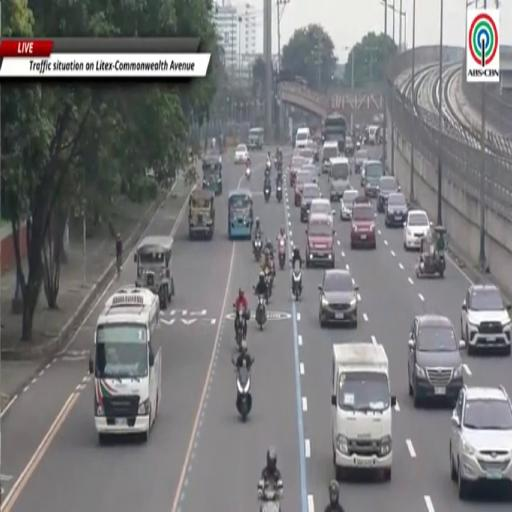bus: (322, 115, 346, 153)
car: (450, 387, 511, 500), (408, 314, 465, 407), (461, 284, 511, 355), (319, 269, 358, 327), (306, 214, 335, 267), (403, 209, 432, 251), (351, 202, 376, 249), (377, 176, 401, 213), (330, 157, 350, 201), (362, 160, 385, 198), (385, 192, 408, 227), (300, 184, 321, 222), (294, 169, 313, 206), (340, 188, 359, 220), (310, 197, 334, 222), (289, 155, 307, 186), (322, 141, 338, 173), (355, 150, 369, 173), (301, 164, 318, 182), (234, 144, 248, 164), (298, 148, 315, 162), (361, 159, 369, 187), (345, 137, 354, 156)
jeepney: (134, 236, 175, 309), (189, 189, 214, 239), (228, 189, 253, 239), (203, 155, 222, 195), (248, 127, 264, 150)
motorcycle: (236, 366, 252, 421), (259, 482, 282, 511), (235, 310, 246, 348), (255, 296, 267, 330), (292, 268, 302, 300), (265, 269, 273, 303), (278, 238, 285, 269), (254, 237, 262, 262), (276, 184, 282, 202), (264, 187, 270, 202), (276, 159, 282, 171), (246, 167, 251, 180), (265, 165, 270, 177)
truck: (89, 287, 161, 443), (332, 343, 396, 481)
